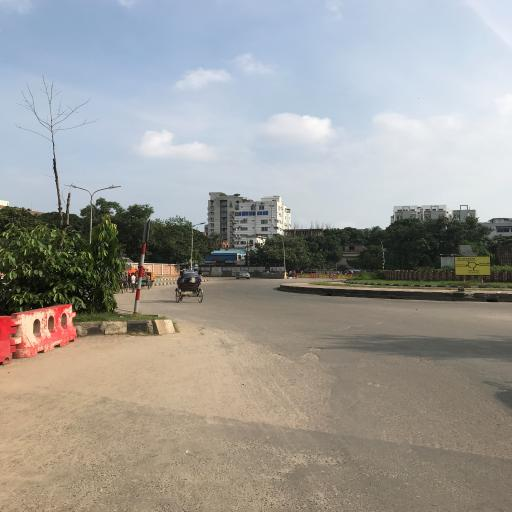car: (236, 272, 252, 281)
rickshaw: (175, 272, 205, 305), (137, 270, 151, 290), (122, 272, 131, 293), (293, 271, 297, 278)
